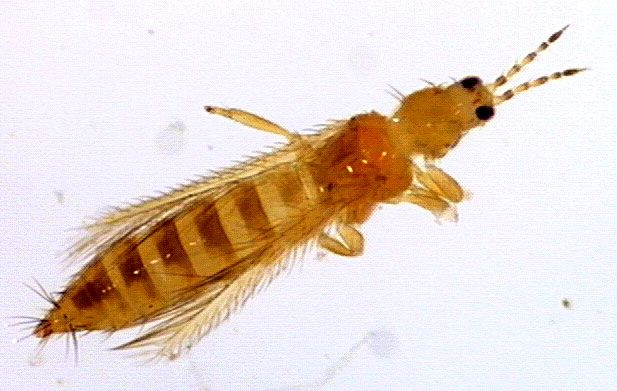Thrips: (31, 27, 578, 370)
